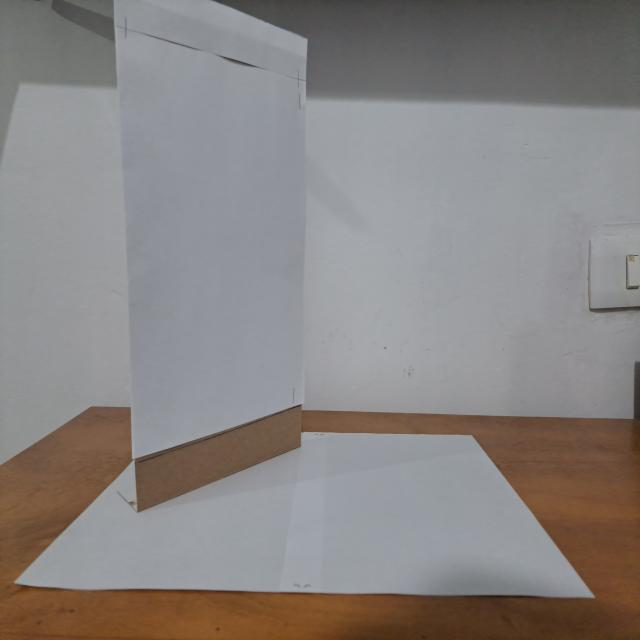wall: (110, 0, 313, 522)
